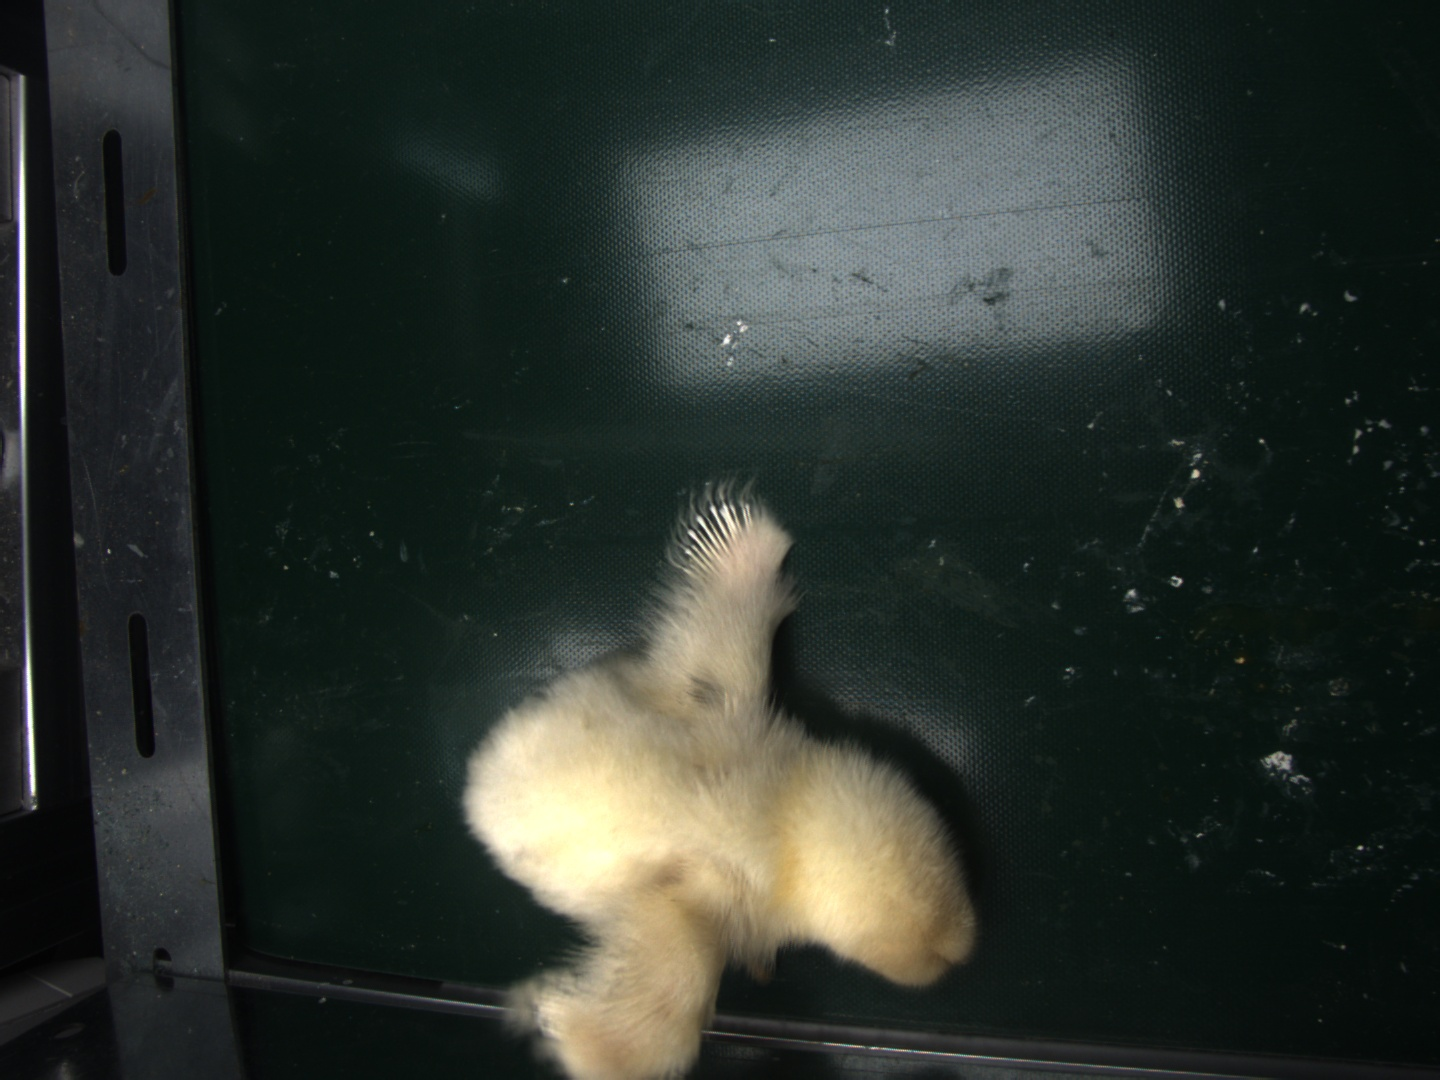male: (681, 503, 757, 576)
